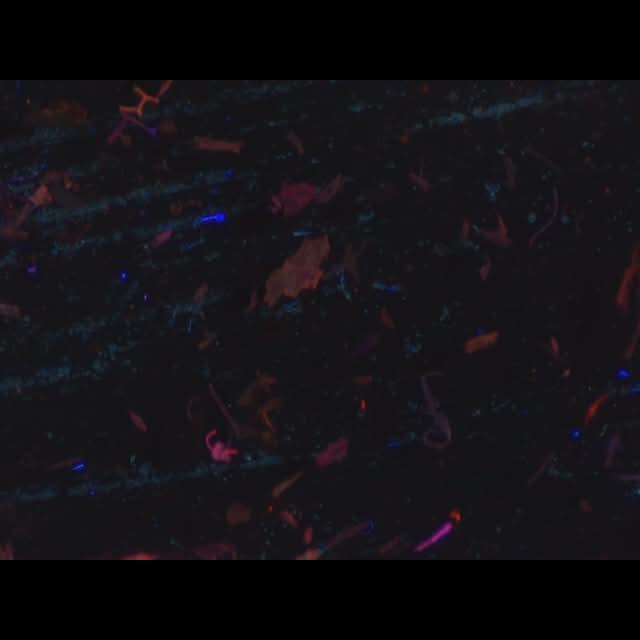Fragment: (205, 429, 238, 462)
